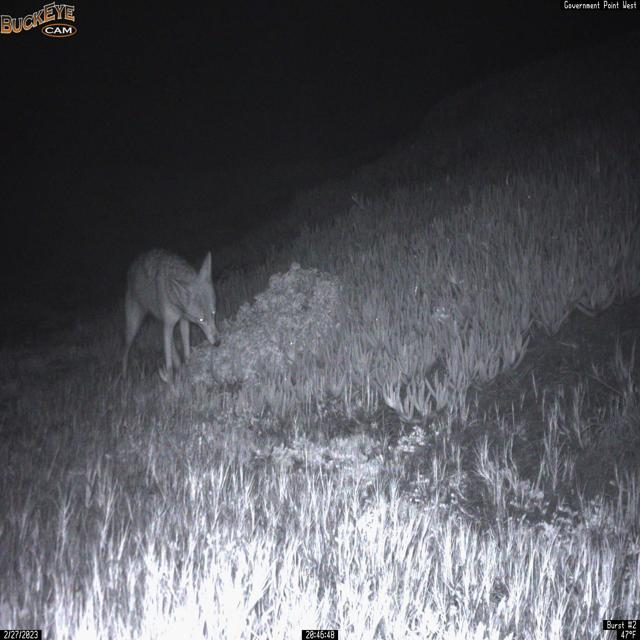coyote: (120, 247, 222, 383)
